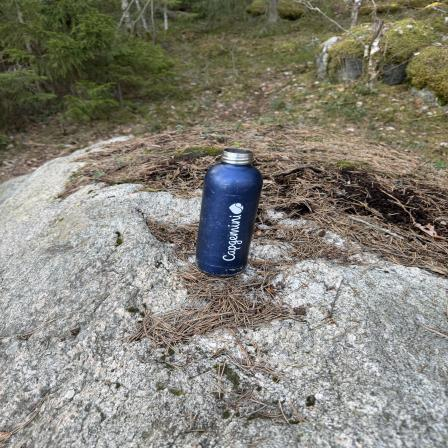blue_bottle: (201, 148, 257, 277)
